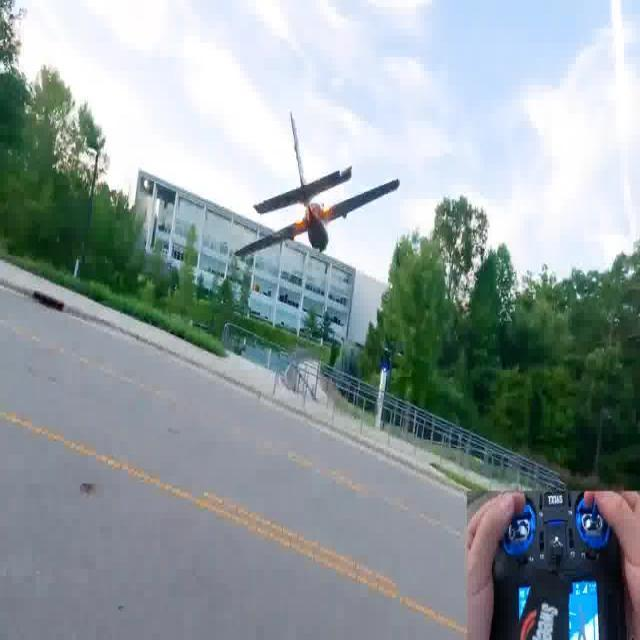iha: (234, 111, 404, 278)
